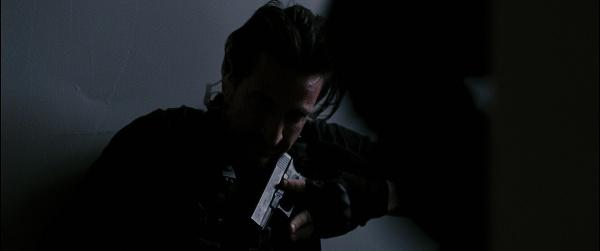Gun: (245, 151, 308, 233)
